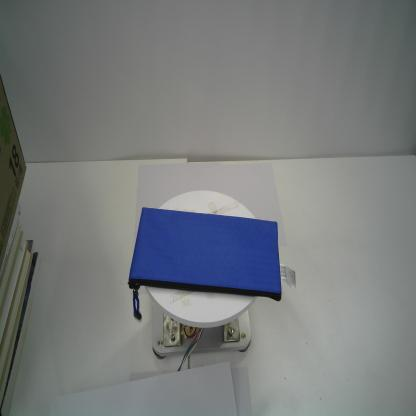Stationery: (128, 208, 283, 321)
